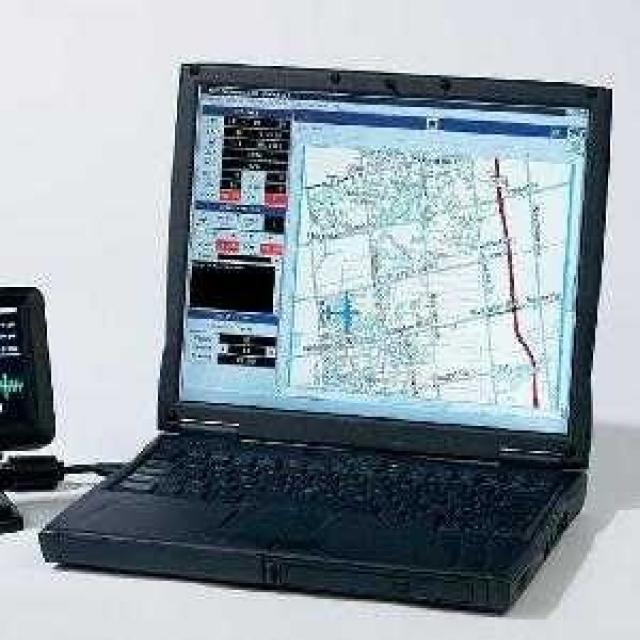laptop: (113, 65, 560, 588)
